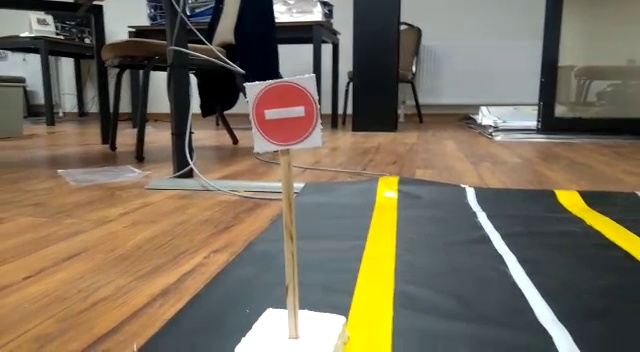girisi_olmayan_yol: (244, 78, 323, 146)
